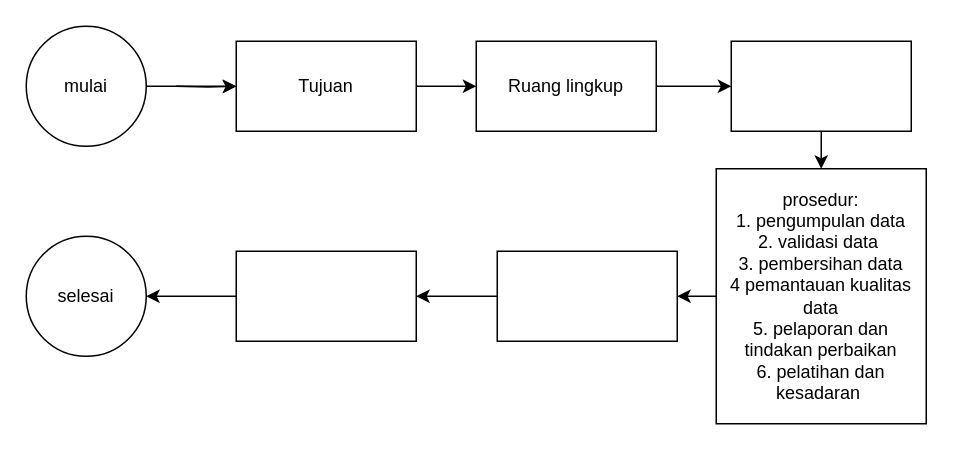
The diagram is 953 pixels wide and 450 high, and some of its shapes have lost their labels. Each missing label, with the box of its shape:
Definisi: (730, 40, 911, 131)
Dokumentasi: (235, 250, 416, 341)
Tanggung jawab: (496, 250, 677, 341)
